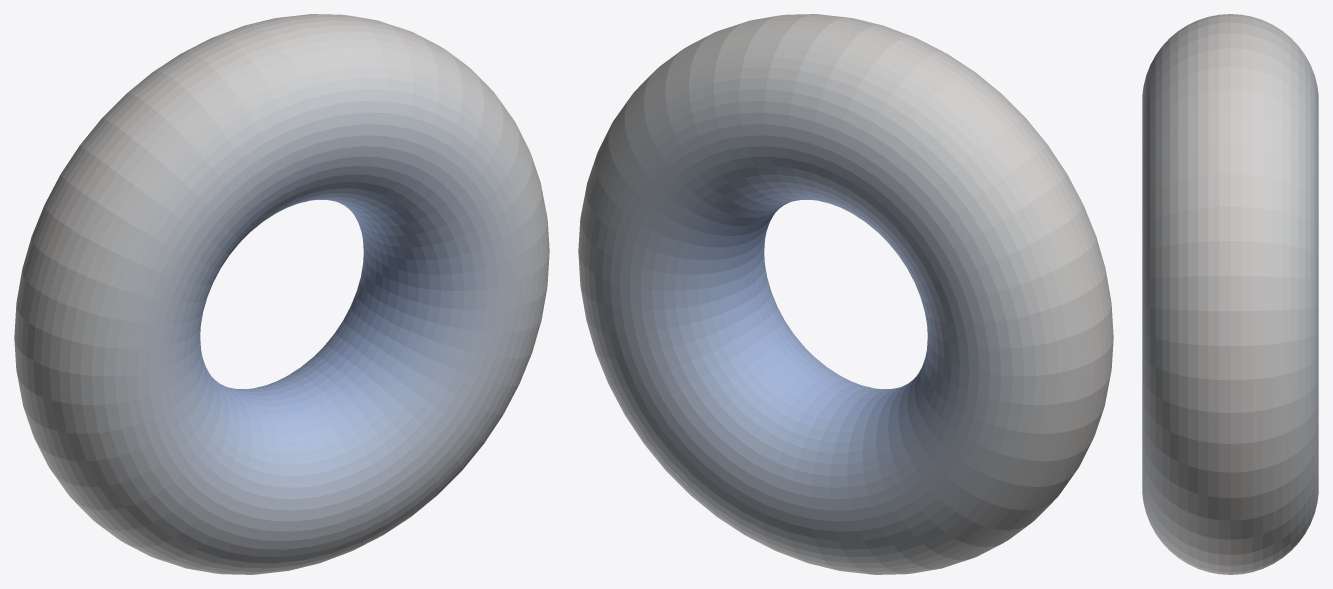
The picture shows the model from 3 angles, left to right: view 1: azimuth 30°, elevation 25°; view 2: azimuth 150°, elevation 25°; view 3: azimuth 270°, elevation 25°; orthographic projection. The views are drawn at different scales.
Visible parts, largest first — view 1: world; view 2: world; view 3: world.
Part boxes in pixels (left/top/right/bottom): world: left=14, top=14, right=549, bottom=574; world: left=578, top=14, right=1113, bottom=574; world: left=1142, top=14, right=1318, bottom=574.
Size of the model in its own units: 22.4 by 22.36 by 7.05.
